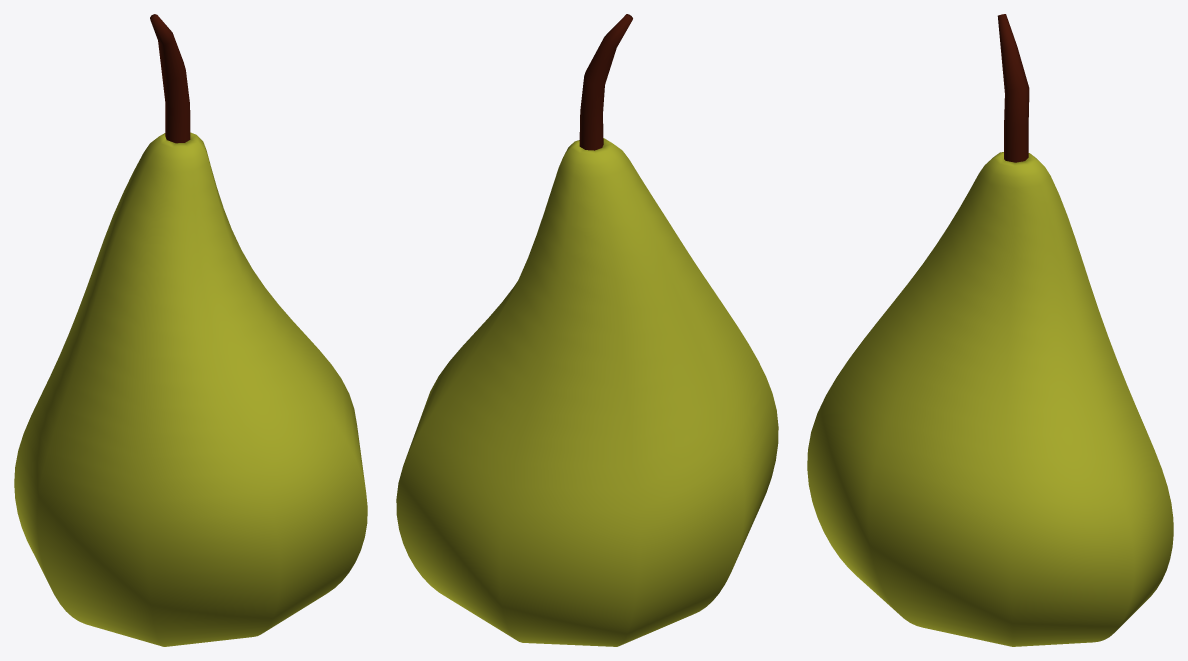
File: Pera.fbx
3 renders of one model, left to right at view 1: azimuth 30°, elevation 25°; view 2: azimuth 150°, elevation 25°; view 3: azimuth 270°, elevation 25°, orthographic. The views are drawn at different scales.
Visible parts, largest first — view 1: Pera, Pera_picciolo; view 2: Pera, Pera_picciolo; view 3: Pera, Pera_picciolo.
Part boxes in pixels (box(x1,y1,x2,y2)): Pera: box(14, 132, 367, 646); Pera_picciolo: box(150, 14, 190, 143); Pera: box(396, 138, 778, 646); Pera_picciolo: box(579, 14, 632, 150); Pera: box(807, 152, 1173, 646); Pera_picciolo: box(997, 14, 1029, 162).
Size of the model in its own units: 108 by 193 by 110.
